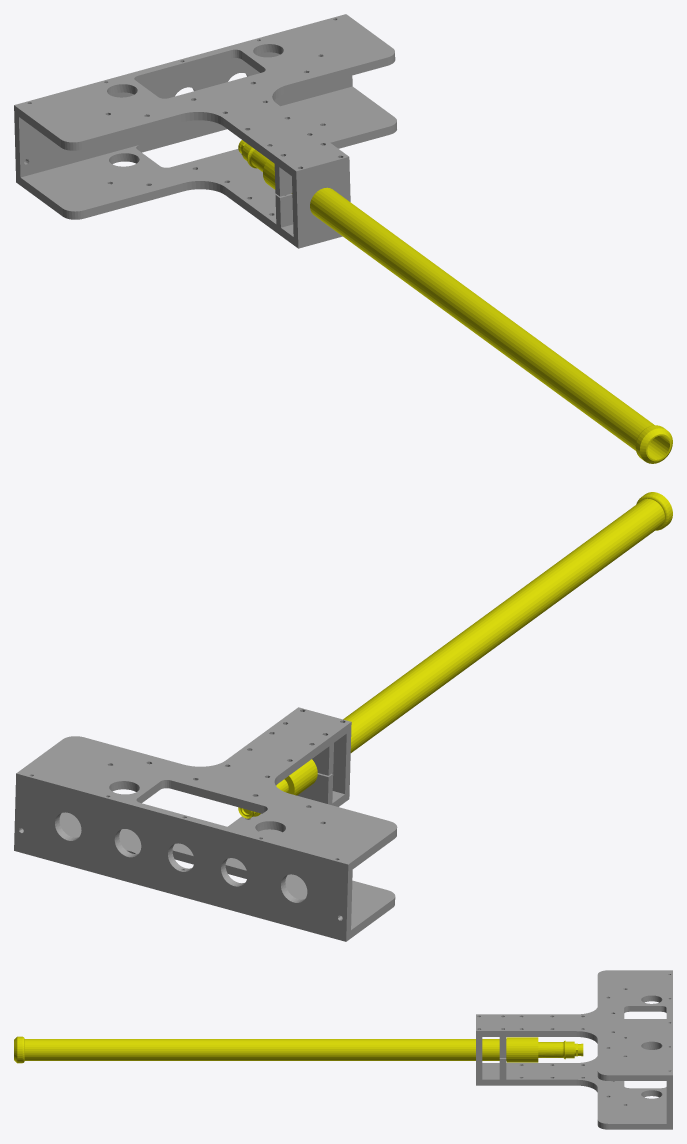
Rendered from torso_lower_mini2.dae.
The picture shows the model from 3 angles, top to bottom: view 1: azimuth 30°, elevation 25°; view 2: azimuth 150°, elevation 25°; view 3: azimuth 270°, elevation 25°; orthographic projection. The views are drawn at different scales.
Visible parts, largest first — view 1: node; view 2: node; view 3: node.
Boxes of the visible parts, bbox=[...] form: node: bbox=[14, 14, 672, 463]; node: bbox=[14, 492, 672, 941]; node: bbox=[14, 970, 672, 1129].
Size of the model in its own units: 25.15 by 6.32 by 62.22.
